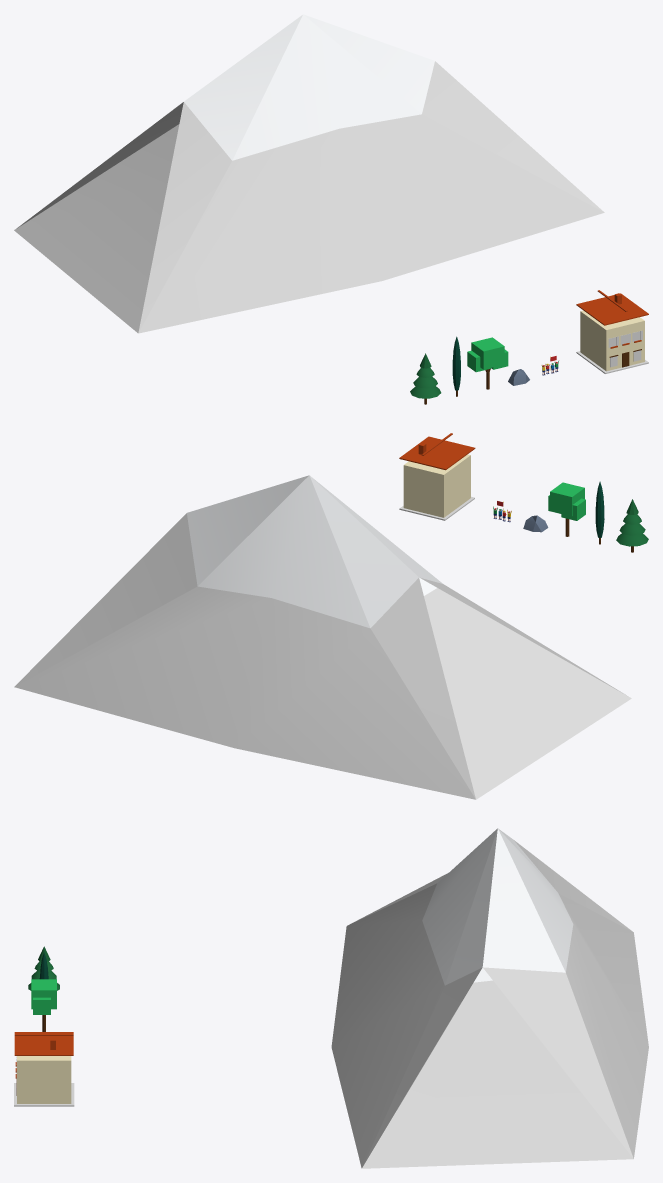
The model's file is env_pack.glb.
The picture shows the model from 3 angles, top to bottom: view 1: azimuth 30°, elevation 25°; view 2: azimuth 150°, elevation 25°; view 3: azimuth 270°, elevation 25°; orthographic projection. The views are drawn at different scales.
Parts seen in each view (by area): view 1: Mountain_Snow_Peak, Building_European_Townhouse, Tree_Deciduous_Oak, Tree_Alpine_Pine; view 2: Mountain_Snow_Peak, Building_European_Townhouse, Tree_Deciduous_Oak, Tree_Alpine_Pine; view 3: Mountain_Snow_Peak, Building_European_Townhouse, Tree_Deciduous_Oak.
Part boxes in pixels (<box>): Mountain_Snow_Peak: <box>14,14,604,333</box>; Building_European_Townhouse: <box>576,290,648,373</box>; Tree_Deciduous_Oak: <box>467,337,508,389</box>; Tree_Alpine_Pine: <box>410,353,441,404</box>; Mountain_Snow_Peak: <box>14,475,631,799</box>; Building_European_Townhouse: <box>399,433,475,520</box>; Tree_Deciduous_Oak: <box>548,482,585,536</box>; Tree_Alpine_Pine: <box>616,499,648,552</box>; Mountain_Snow_Peak: <box>331,828,648,1168</box>; Building_European_Townhouse: <box>14,1032,74,1106</box>; Tree_Deciduous_Oak: <box>31,979,56,1031</box>.
Bounding box in the file's own units: 76 × 32 × 84.
